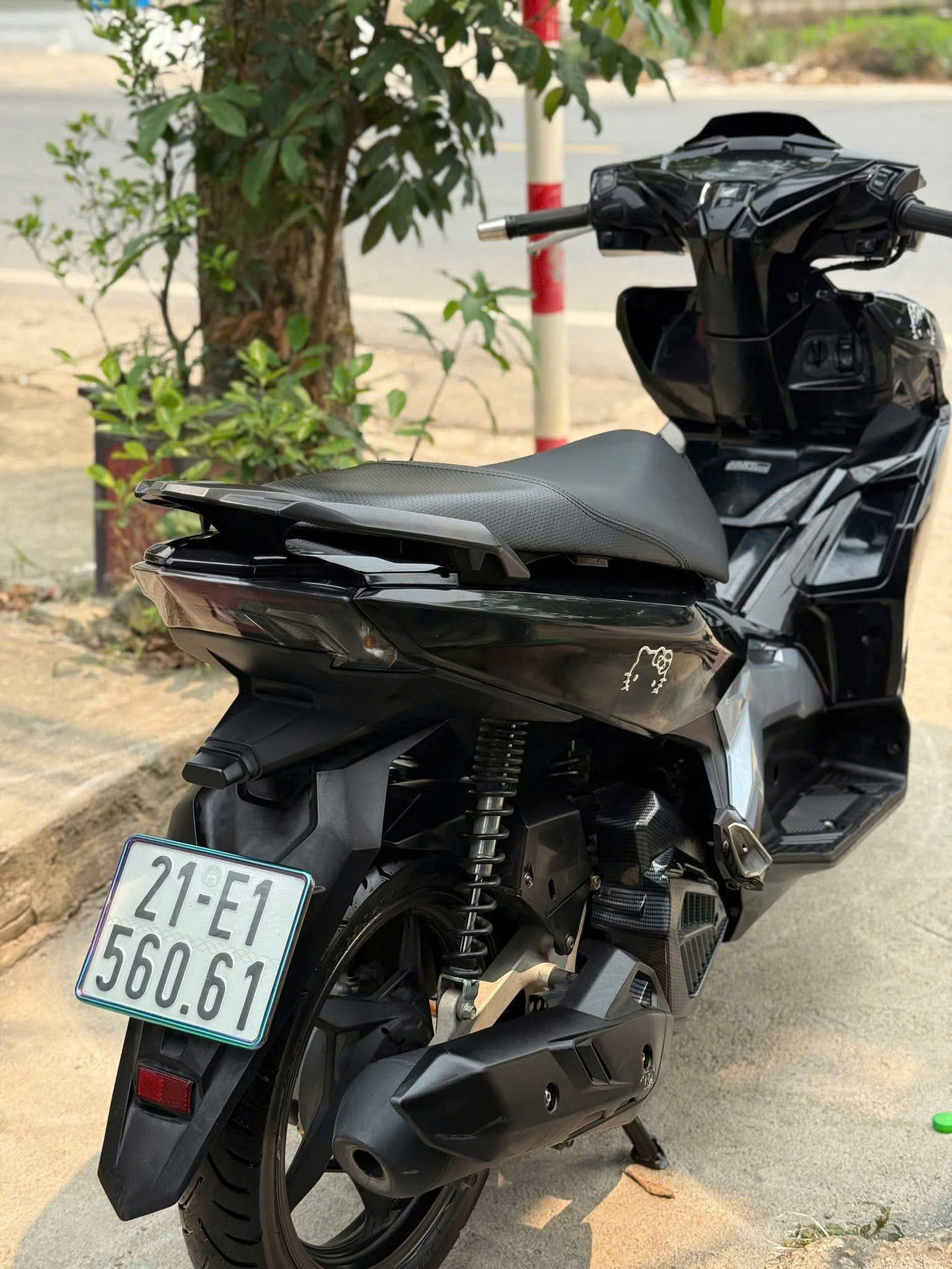Bien-so: (79, 833, 313, 1046)
